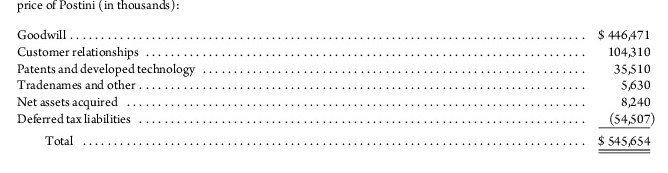table: (0, 0, 668, 173)
